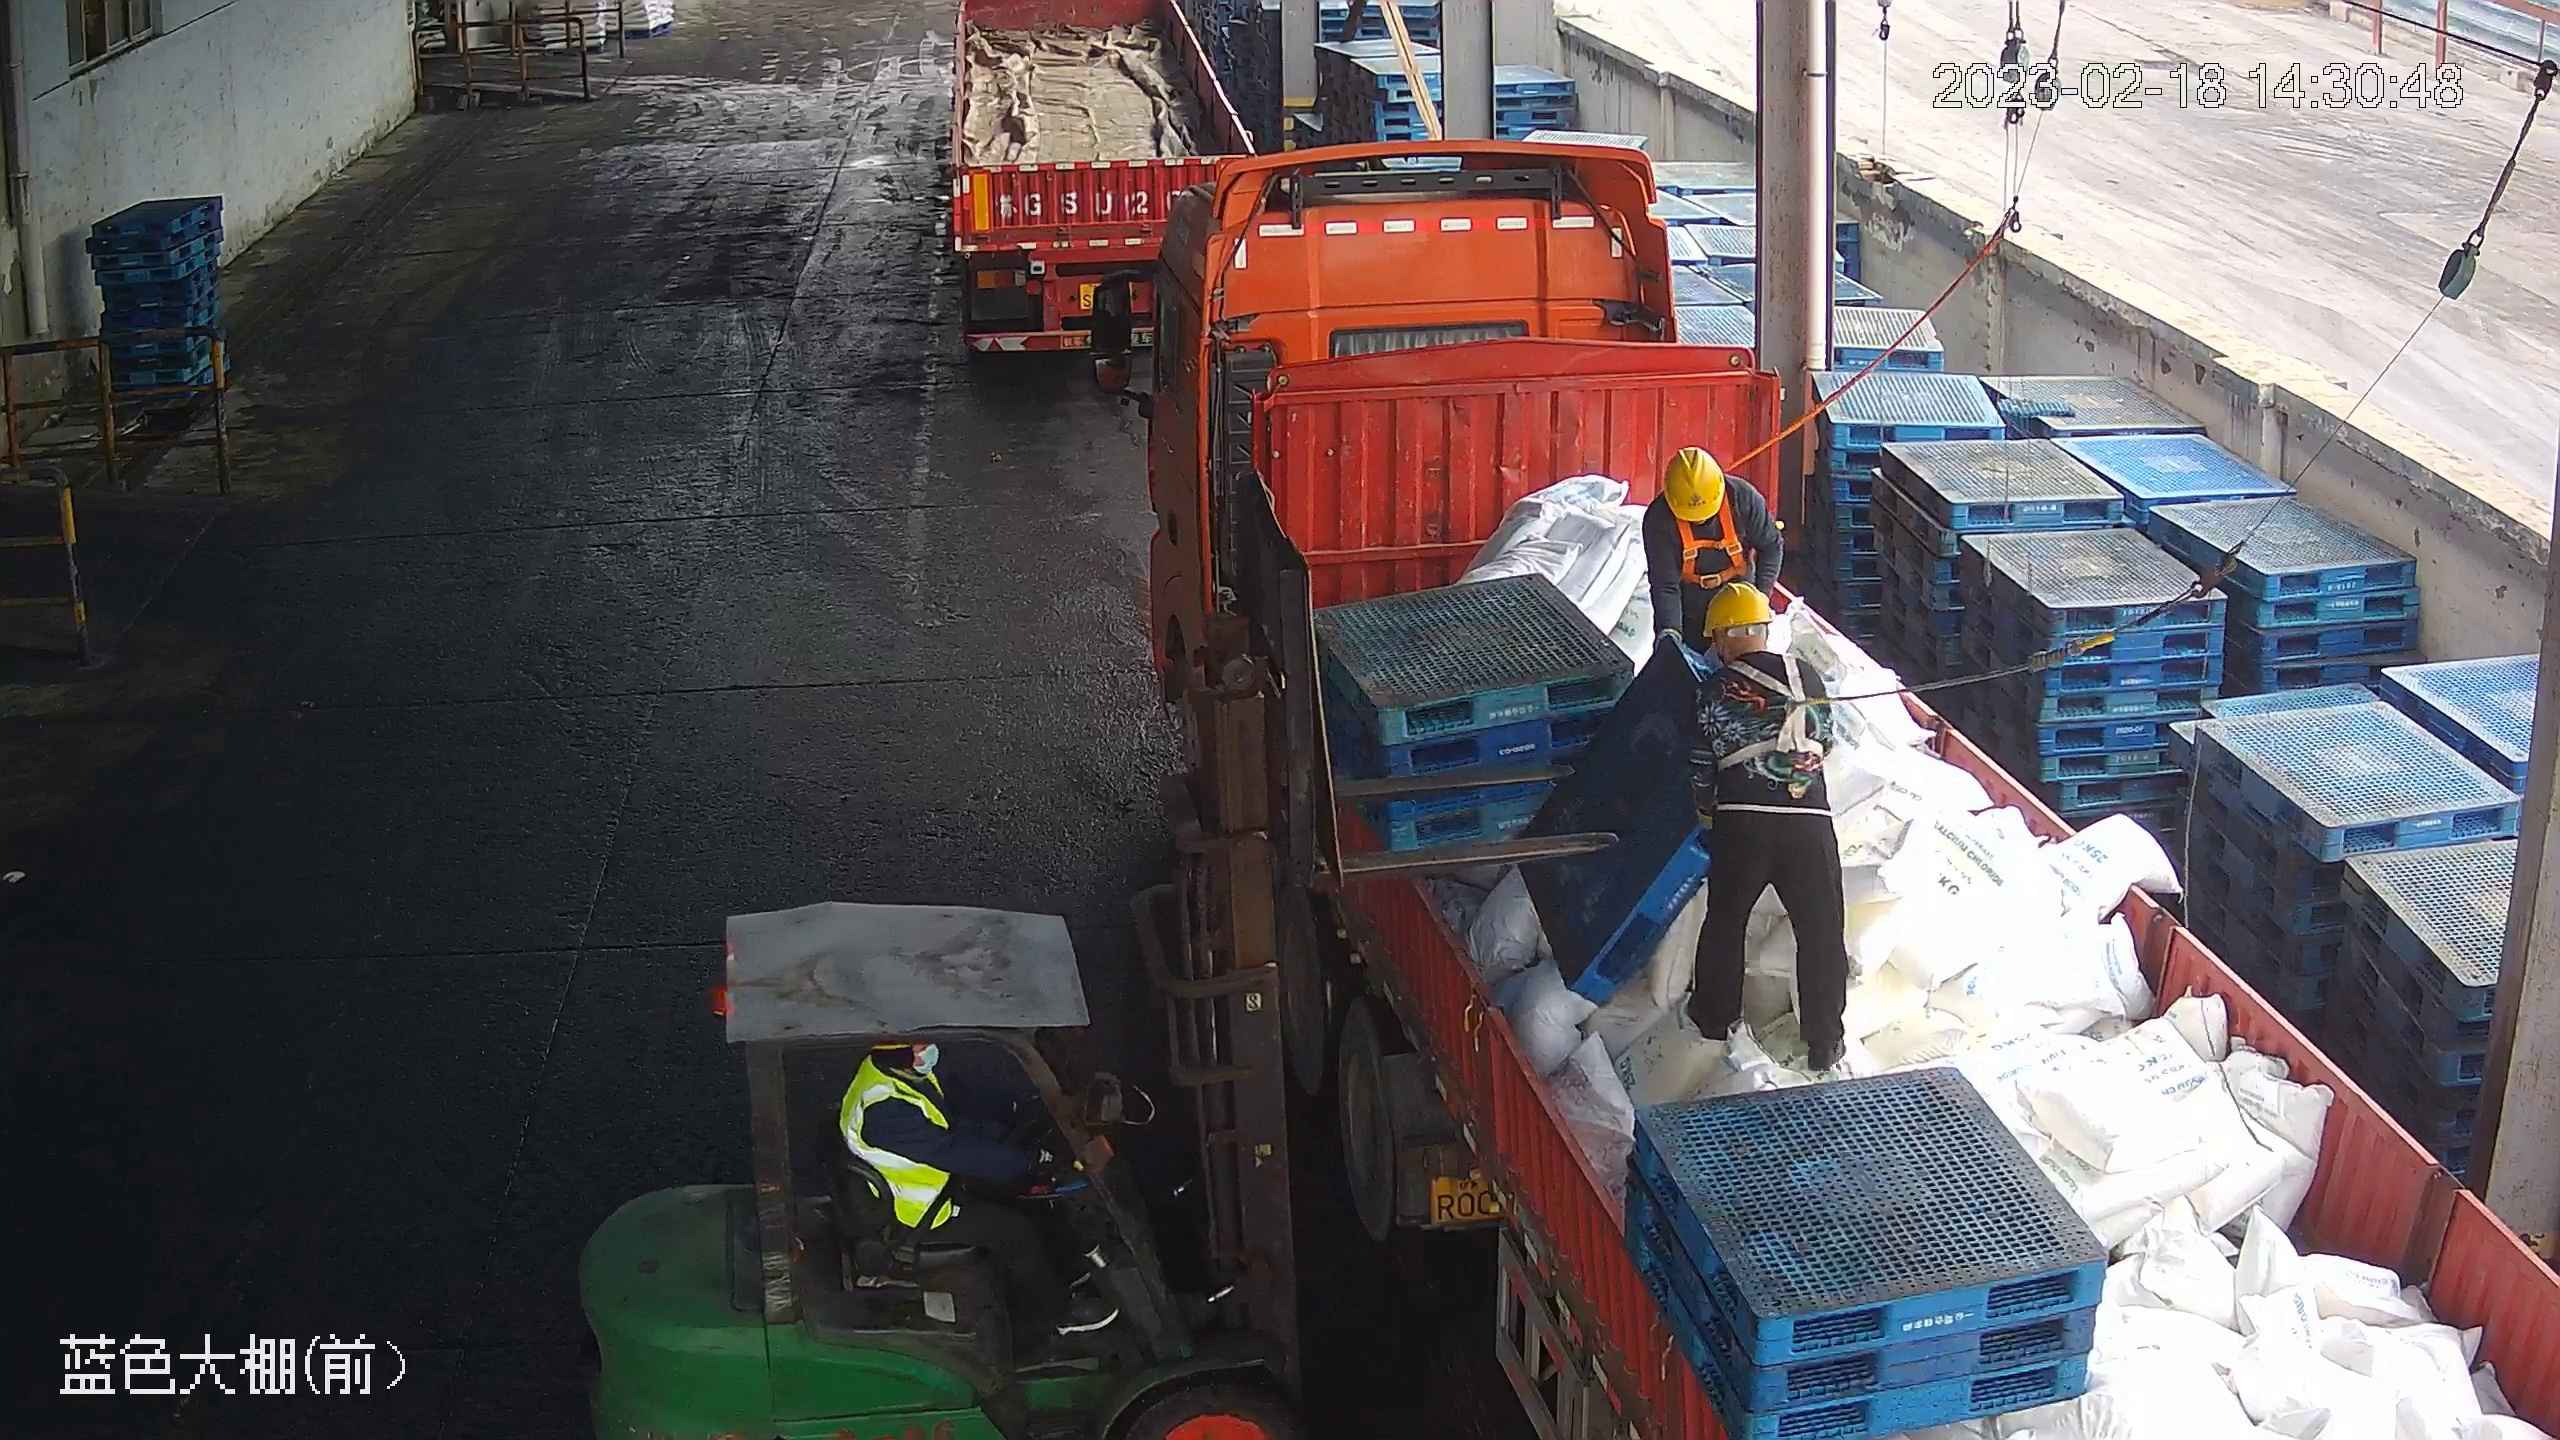belt: (1705, 647, 1837, 773), (1664, 472, 1757, 580)
head: (1684, 579, 1826, 731), (1645, 445, 1772, 555)
helmet: (1660, 444, 1727, 522), (1698, 580, 1774, 634)
people: (1619, 574, 1853, 1060), (846, 1035, 1113, 1336), (1643, 437, 1789, 680)
truck: (1085, 127, 2560, 1440), (936, 1, 1268, 367)
